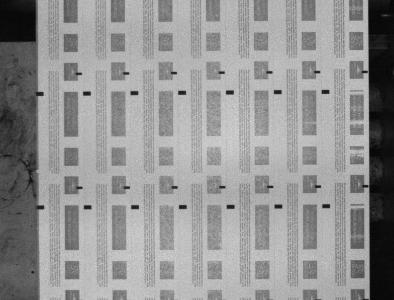qblock: (178, 90, 187, 95), (322, 89, 330, 94), (227, 204, 235, 209), (83, 91, 91, 96), (36, 91, 44, 96), (322, 204, 331, 208), (226, 90, 234, 94), (131, 91, 139, 95), (36, 205, 44, 209), (274, 90, 282, 94), (131, 205, 139, 209), (275, 204, 283, 208), (179, 205, 187, 209), (84, 205, 91, 209)
smallqblock: (171, 71, 178, 75), (76, 186, 83, 189), (267, 185, 274, 188), (123, 72, 130, 75), (315, 185, 322, 188), (76, 72, 82, 75), (219, 71, 225, 74), (124, 186, 130, 189), (363, 70, 369, 73), (172, 186, 178, 189), (267, 71, 273, 74), (220, 185, 226, 188), (315, 71, 321, 74), (363, 185, 369, 187)
